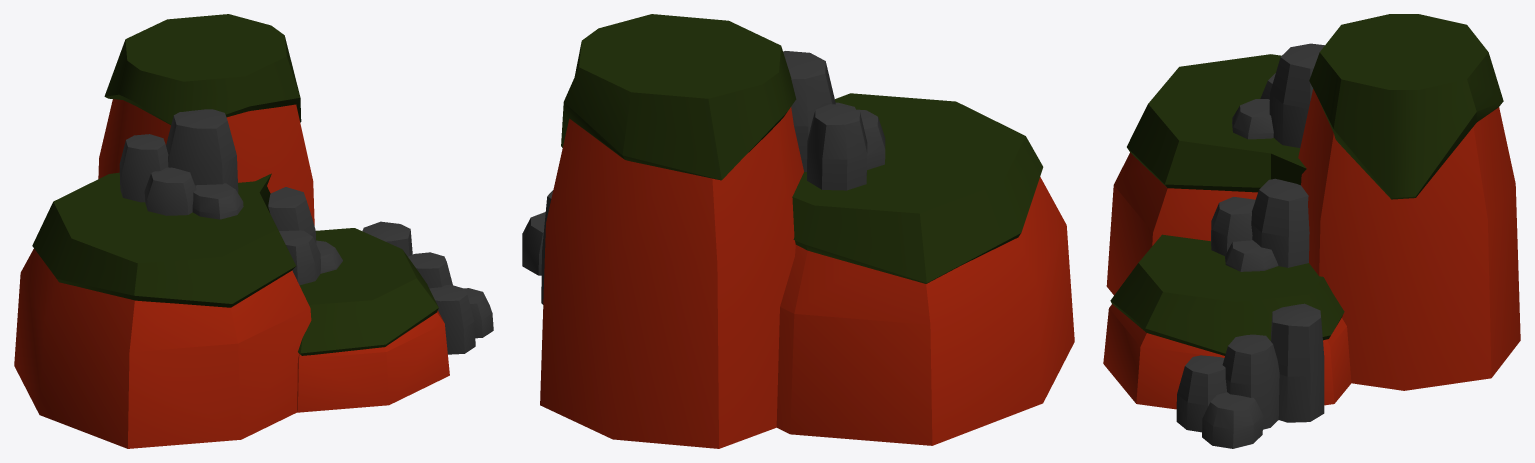
File: hill_simple.fbx
The picture shows the model from 3 angles, left to right: view 1: azimuth 30°, elevation 25°; view 2: azimuth 150°, elevation 25°; view 3: azimuth 270°, elevation 25°; orthographic projection. The views are drawn at different scales.
Visible parts, largest first — view 1: simple; view 2: simple; view 3: simple.
Boxes of the visible parts, box(x1,y1,x2,y2) form: simple: box(14, 14, 493, 448); simple: box(522, 14, 1074, 448); simple: box(1103, 14, 1520, 448).
Size of the model in its own units: 2905 by 1707 by 2238.
